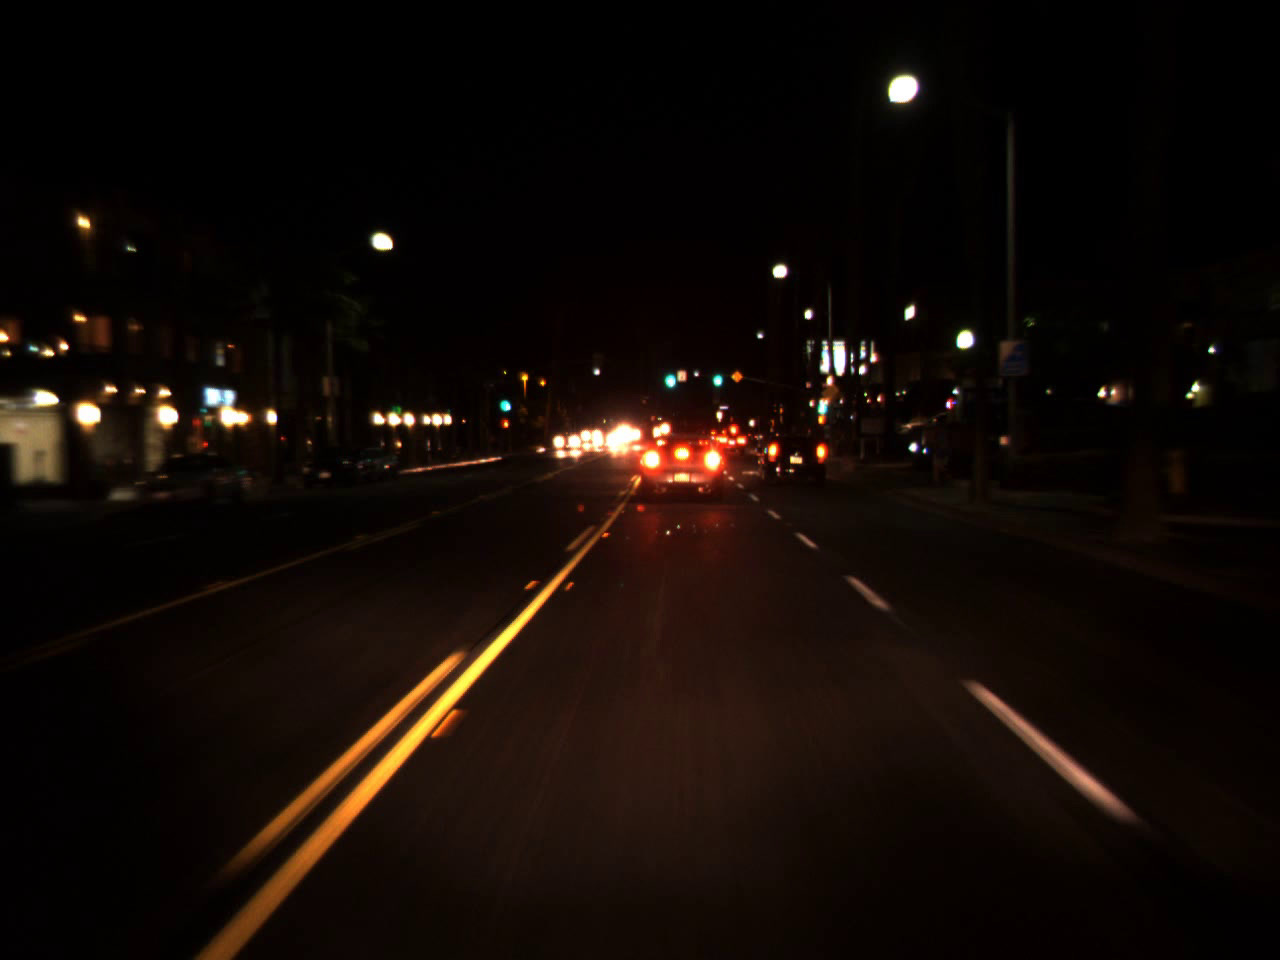go: (661, 359, 677, 392), (496, 386, 512, 416), (710, 367, 724, 385)
